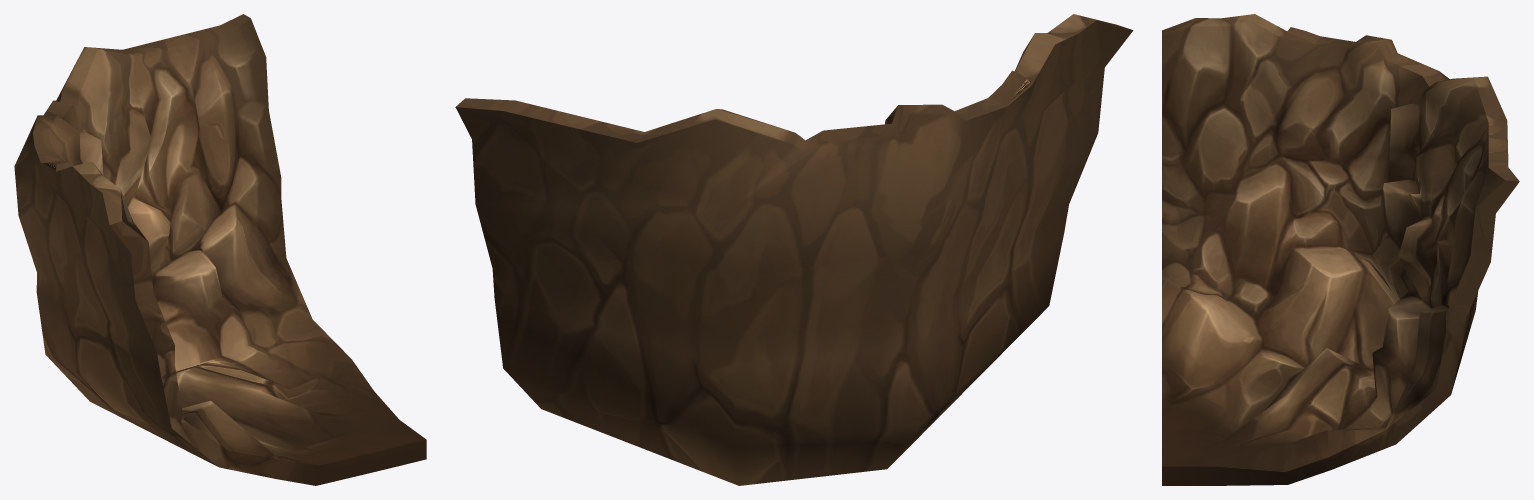
Rendered from Wall_cave_corner_big_01.fbx.
The picture shows the model from 3 angles, left to right: view 1: azimuth 30°, elevation 25°; view 2: azimuth 150°, elevation 25°; view 3: azimuth 270°, elevation 25°; orthographic projection. The views are drawn at different scales.
Visible parts, largest first — view 1: Wall_cave_corner_big_01; view 2: Wall_cave_corner_big_01; view 3: Wall_cave_corner_big_01.
Part boxes in pixels (box(x1,y1,x2,y2)): Wall_cave_corner_big_01: box(14, 14, 426, 485); Wall_cave_corner_big_01: box(455, 14, 1133, 485); Wall_cave_corner_big_01: box(1162, 14, 1519, 485).
Bounding box in the file's own units: 865 × 846 × 837.
